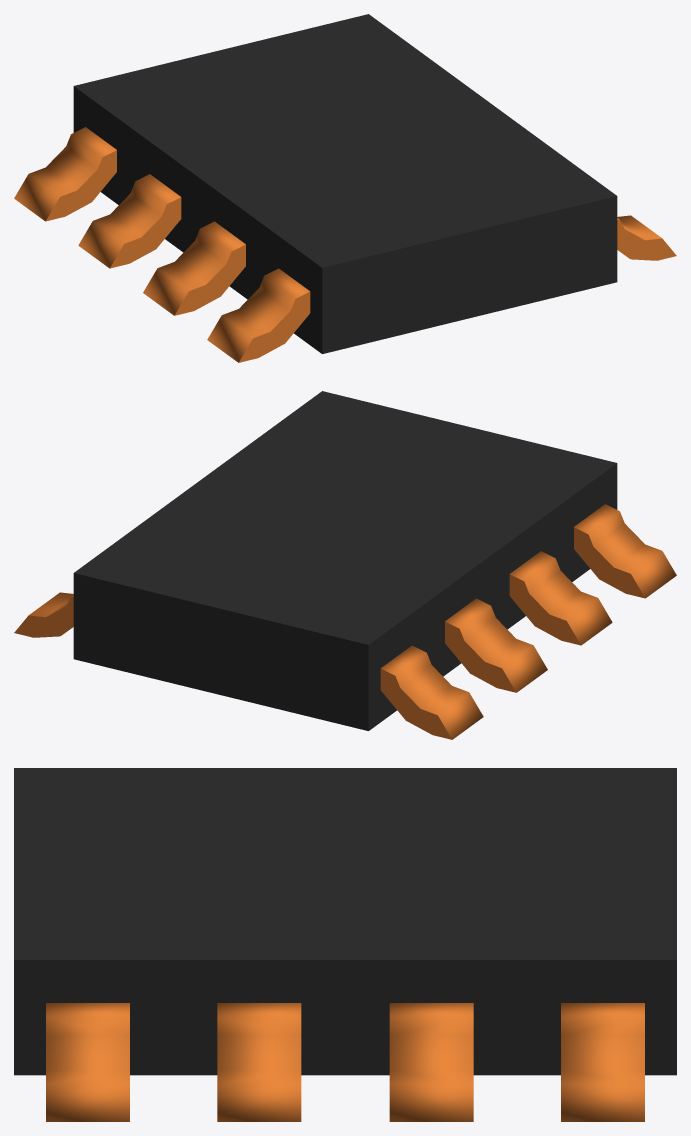
File: Chip_2.fbx
3 views of the same model, one above another, from view 1: azimuth 30°, elevation 25°; view 2: azimuth 150°, elevation 25°; view 3: azimuth 270°, elevation 25° (orthographic). The views are drawn at different scales.
Visible parts, largest first — view 1: Chip_2; view 2: Chip_2; view 3: Chip_2.
Boxes of the visible parts, <box> form: Chip_2: <box>14,14,676,362</box>; Chip_2: <box>14,391,676,739</box>; Chip_2: <box>14,768,676,1121</box>.
Bounding box in the file's own units: 151 × 28.46 × 149.
